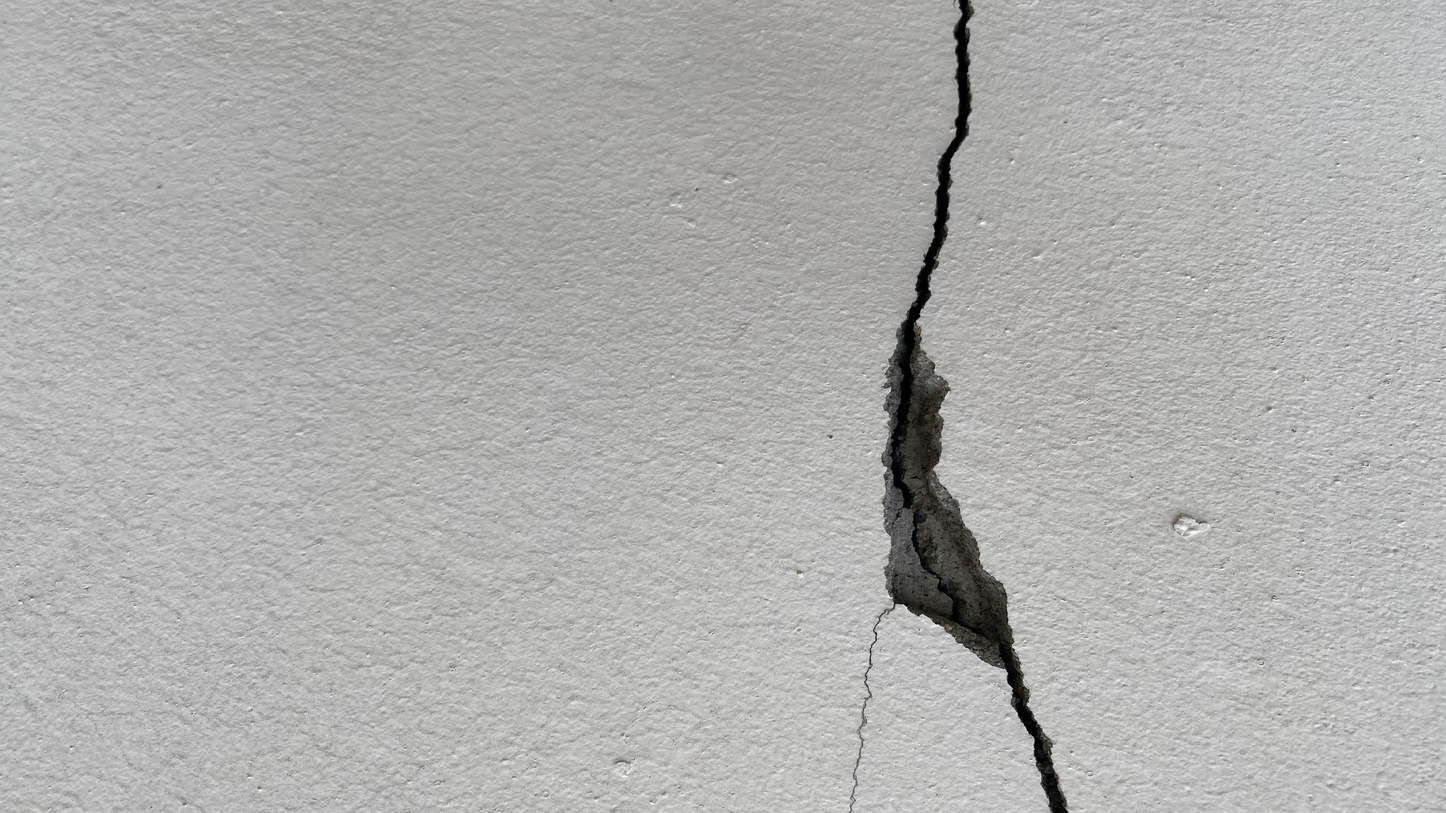crack: (845, 0, 1073, 811)
